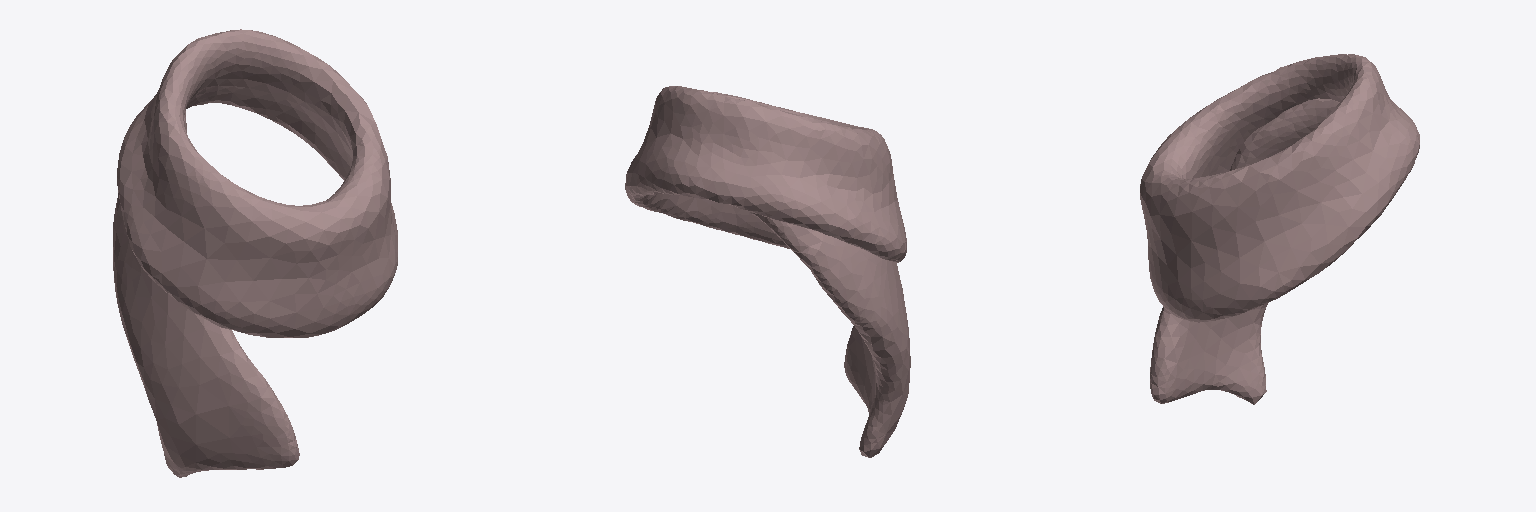
Rendered from scarf.obj.
3 renders of one model, left to right at view 1: azimuth 30°, elevation 25°; view 2: azimuth 150°, elevation 25°; view 3: azimuth 270°, elevation 25°, orthographic.
Visible parts, largest first — view 1: scarf_winter_female_reference; view 2: scarf_winter_female_reference; view 3: scarf_winter_female_reference.
Boxes of the visible parts, <box> form: scarf_winter_female_reference: <box>113,29,397,477</box>; scarf_winter_female_reference: <box>625,86,910,457</box>; scarf_winter_female_reference: <box>1140,54,1419,404</box>.
Bounding box in the file's own units: 11.06 × 15.8 × 10.59.